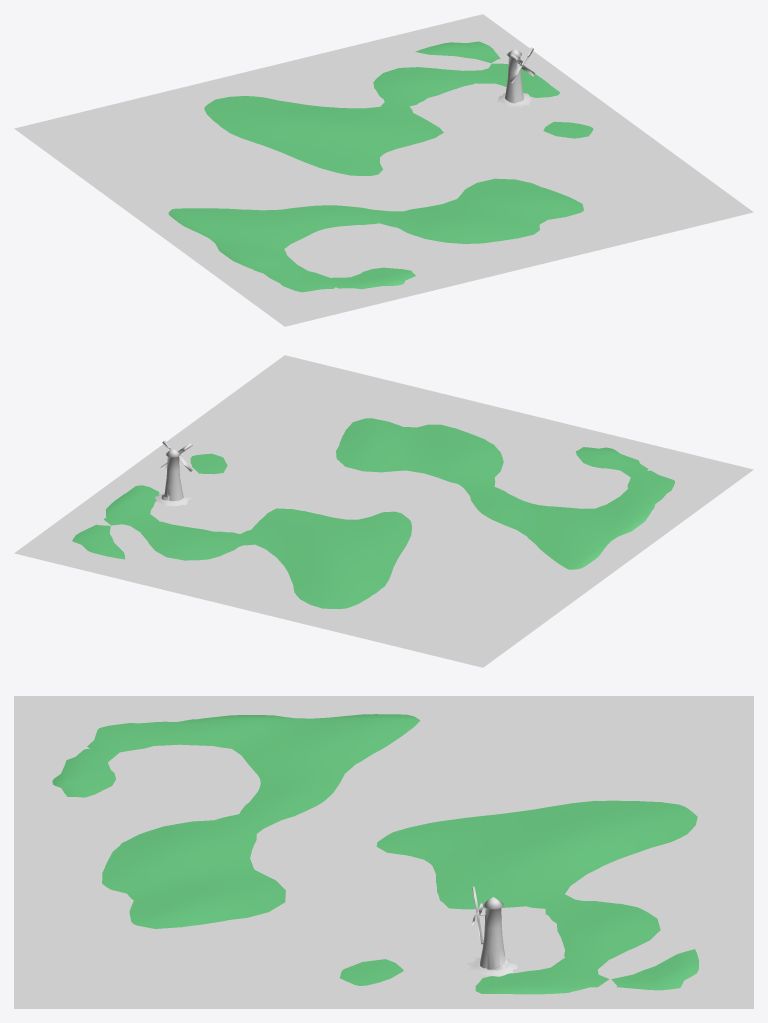
Rendered from windmills.dae.
The picture shows the model from 3 angles, top to bottom: view 1: azimuth 30°, elevation 25°; view 2: azimuth 150°, elevation 25°; view 3: azimuth 270°, elevation 25°; orthographic projection. The views are drawn at different scales.
Visible parts, largest first — view 1: land, grases, mill1; view 2: land, grases, mill1; view 3: land, grases, mill1.
Boxes of the visible parts, box(x1,y1,x2,y2) form: land: box(14, 14, 753, 326); grases: box(168, 41, 593, 292); mill1: box(505, 48, 524, 103); land: box(14, 355, 753, 667); grases: box(72, 418, 674, 608); mill1: box(161, 448, 183, 501); land: box(14, 696, 753, 1008); grases: box(52, 714, 698, 994); mill1: box(480, 897, 508, 970).
Size of the model in its own units: 824 by 824 by 101.
